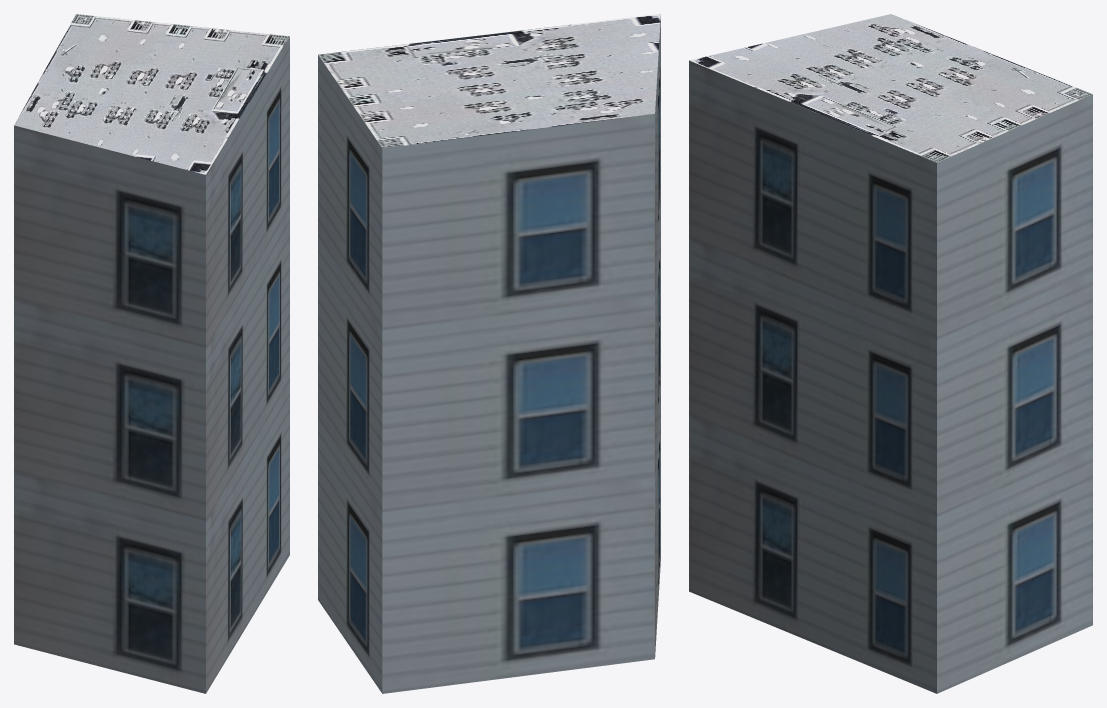
Rendered from ResTex__2285.fbx.
3 renders of one model, left to right at view 1: azimuth 30°, elevation 25°; view 2: azimuth 150°, elevation 25°; view 3: azimuth 270°, elevation 25°, orthographic. The views are drawn at different scales.
Parts seen in each view (by area): view 1: CityEngineMaterial_18_m, CityEngineMaterial_m; view 2: CityEngineMaterial_18_m, CityEngineMaterial_m; view 3: CityEngineMaterial_18_m, CityEngineMaterial_m.
Boxes of the visible parts, x1,y1,x2,y2 form: CityEngineMaterial_18_m: (14, 36, 289, 693); CityEngineMaterial_m: (14, 14, 289, 174); CityEngineMaterial_18_m: (318, 16, 660, 693); CityEngineMaterial_m: (318, 14, 660, 148); CityEngineMaterial_18_m: (689, 60, 1092, 693); CityEngineMaterial_m: (689, 14, 1092, 162).
Bounding box in the file's own units: 5.41 × 9 × 6.2.
Materials: 2 (2 with a texture image).
